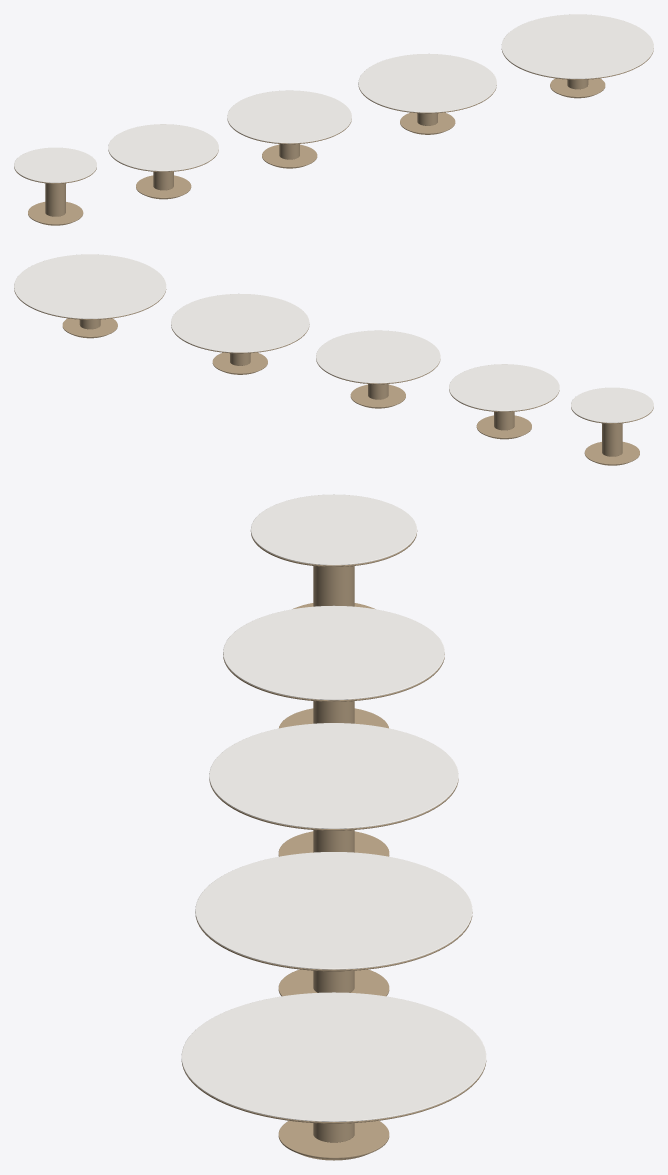
File: familia_hoje.glb
3 views of the same model, one above another, from view 1: azimuth 30°, elevation 25°; view 2: azimuth 150°, elevation 25°; view 3: azimuth 270°, elevation 25° (orthographic). The views are drawn at different scales.
Visible parts, largest first — view 1: Top Orbit Coffee Table 043, Top Orbit Coffee Table 041, Top Orbit Coffee Table 039, Top Orbit Coffee Table 037, Top Orbit Coffee Table 035, Base Orbit Coffee Table 035, Base Orbit Coffee Table 039, Base Orbit Coffee Table 037, Base Orbit Coffee Table 041, Base Orbit Coffee Table 043, Base Element Orbit Coffee Table 038, Base Element Orbit Coffee Table 040; view 2: Top Orbit Coffee Table 043, Top Orbit Coffee Table 041, Top Orbit Coffee Table 039, Top Orbit Coffee Table 037, Top Orbit Coffee Table 035, Base Orbit Coffee Table 035, Base Orbit Coffee Table 039, Base Orbit Coffee Table 037, Base Orbit Coffee Table 041, Base Orbit Coffee Table 043, Base Element Orbit Coffee Table 038, Base Element Orbit Coffee Table 040; view 3: Top Orbit Coffee Table 043, Top Orbit Coffee Table 041, Top Orbit Coffee Table 039, Top Orbit Coffee Table 037, Top Orbit Coffee Table 035, Base Orbit Coffee Table 043, Base Element Orbit Coffee Table 038, Base Orbit Coffee Table 041, Base Orbit Coffee Table 039, Base Element Orbit Coffee Table 040, Base Element Orbit Coffee Table 042.
Part boxes in pixels (bbox=[...]): Top Orbit Coffee Table 043: bbox=[501, 14, 653, 78]; Top Orbit Coffee Table 041: bbox=[358, 53, 496, 112]; Top Orbit Coffee Table 039: bbox=[227, 90, 351, 143]; Top Orbit Coffee Table 037: bbox=[108, 124, 218, 171]; Top Orbit Coffee Table 035: bbox=[14, 147, 96, 182]; Base Orbit Coffee Table 035: bbox=[28, 202, 83, 225]; Base Orbit Coffee Table 039: bbox=[262, 144, 317, 168]; Base Orbit Coffee Table 037: bbox=[136, 175, 191, 199]; Base Orbit Coffee Table 041: bbox=[400, 112, 455, 134]; Base Orbit Coffee Table 043: bbox=[550, 78, 605, 98]; Base Element Orbit Coffee Table 038: bbox=[45, 183, 65, 216]; Base Element Orbit Coffee Table 040: bbox=[153, 171, 173, 190]; Top Orbit Coffee Table 043: bbox=[14, 254, 166, 318]; Top Orbit Coffee Table 041: bbox=[171, 293, 309, 352]; Top Orbit Coffee Table 039: bbox=[316, 330, 440, 383]; Top Orbit Coffee Table 037: bbox=[449, 364, 559, 411]; Top Orbit Coffee Table 035: bbox=[571, 387, 653, 422]; Base Orbit Coffee Table 035: bbox=[584, 442, 639, 465]; Base Orbit Coffee Table 039: bbox=[350, 384, 405, 408]; Base Orbit Coffee Table 037: bbox=[476, 415, 531, 439]; Base Orbit Coffee Table 041: bbox=[212, 352, 267, 374]; Base Orbit Coffee Table 043: bbox=[62, 318, 117, 338]; Base Element Orbit Coffee Table 038: bbox=[602, 423, 622, 456]; Base Element Orbit Coffee Table 040: bbox=[494, 411, 514, 430]; Top Orbit Coffee Table 043: bbox=[181, 992, 486, 1121]; Top Orbit Coffee Table 041: bbox=[195, 852, 472, 969]; Top Orbit Coffee Table 039: bbox=[209, 723, 458, 828]; Top Orbit Coffee Table 037: bbox=[223, 605, 444, 700]; Top Orbit Coffee Table 035: bbox=[251, 494, 416, 565]; Base Orbit Coffee Table 043: bbox=[278, 1120, 389, 1160]; Base Element Orbit Coffee Table 038: bbox=[313, 566, 354, 606]; Base Orbit Coffee Table 041: bbox=[278, 969, 389, 996]; Base Orbit Coffee Table 039: bbox=[278, 831, 389, 856]; Base Element Orbit Coffee Table 040: bbox=[313, 701, 354, 723]; Base Element Orbit Coffee Table 042: bbox=[313, 830, 354, 852].
Bounding box in the file's own units: 5.2 × 0.404 × 1.1.
